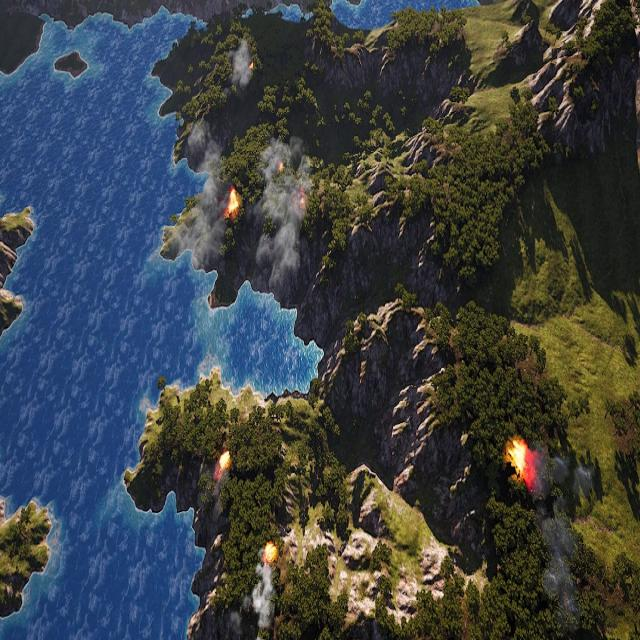fire: (507, 439, 529, 478), (223, 187, 239, 219), (216, 447, 233, 475), (264, 544, 278, 563), (296, 182, 307, 206), (278, 164, 284, 174)
smoke: (527, 445, 600, 626), (254, 129, 311, 308), (179, 122, 237, 264), (226, 560, 278, 638), (230, 40, 253, 90)
